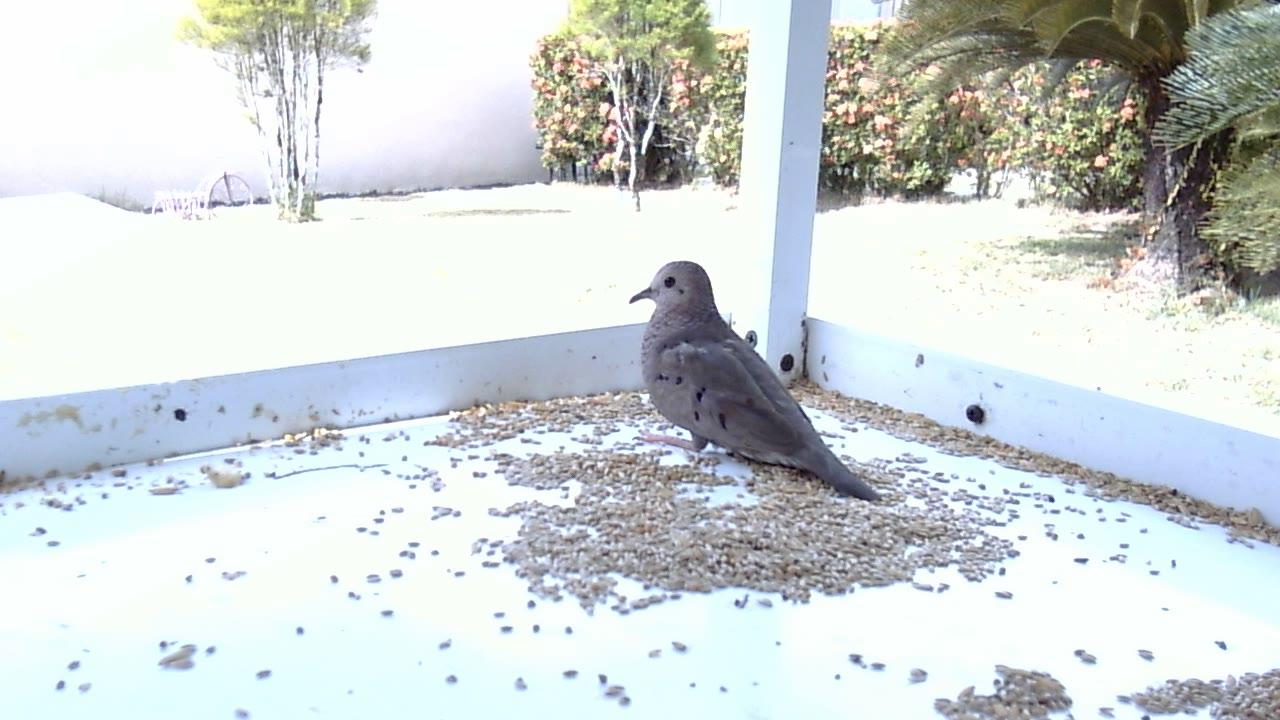rolinha: (628, 257, 885, 506)
